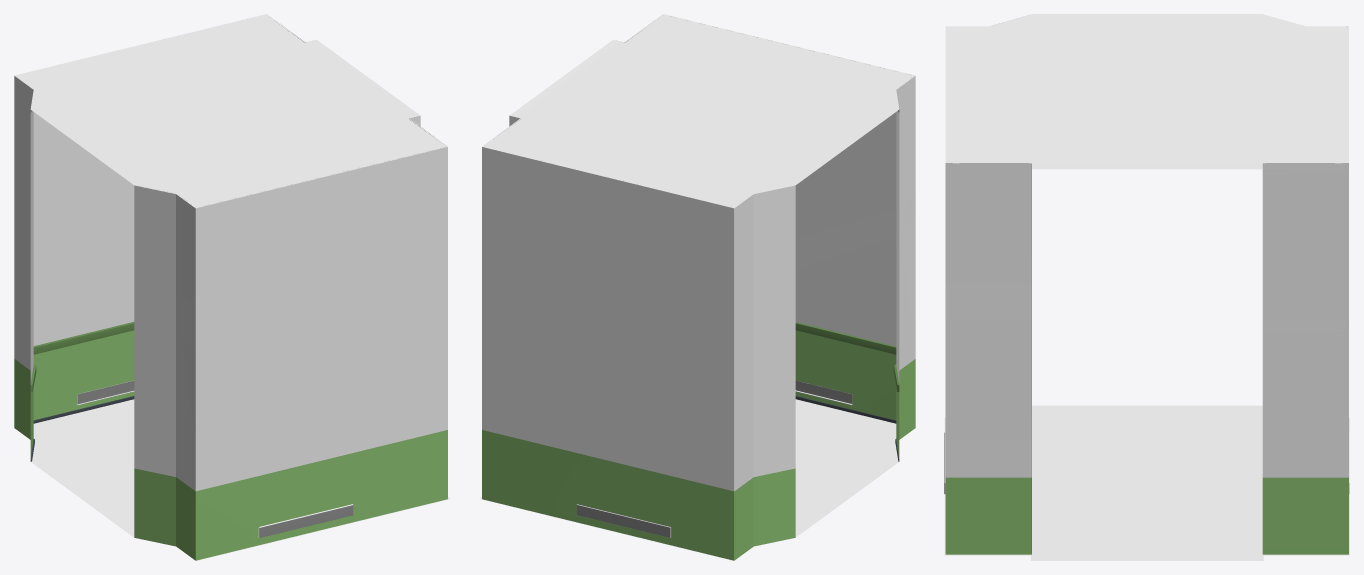
The picture shows the model from 3 angles, left to right: view 1: azimuth 30°, elevation 25°; view 2: azimuth 150°, elevation 25°; view 3: azimuth 270°, elevation 25°; orthographic projection. The views are drawn at different scales.
Visible parts, largest first — view 1: SM_H_Building_FutureTech_HBlack_01_InterWall_07; view 2: SM_H_Building_FutureTech_HBlack_01_InterWall_07; view 3: SM_H_Building_FutureTech_HBlack_01_InterWall_07.
Part boxes in pixels (bbox=[...]): SM_H_Building_FutureTech_HBlack_01_InterWall_07: bbox=[14, 14, 450, 560]; SM_H_Building_FutureTech_HBlack_01_InterWall_07: bbox=[479, 14, 915, 560]; SM_H_Building_FutureTech_HBlack_01_InterWall_07: bbox=[944, 14, 1349, 560].
Bounding box in the file's own units: 649 × 589 × 691.
